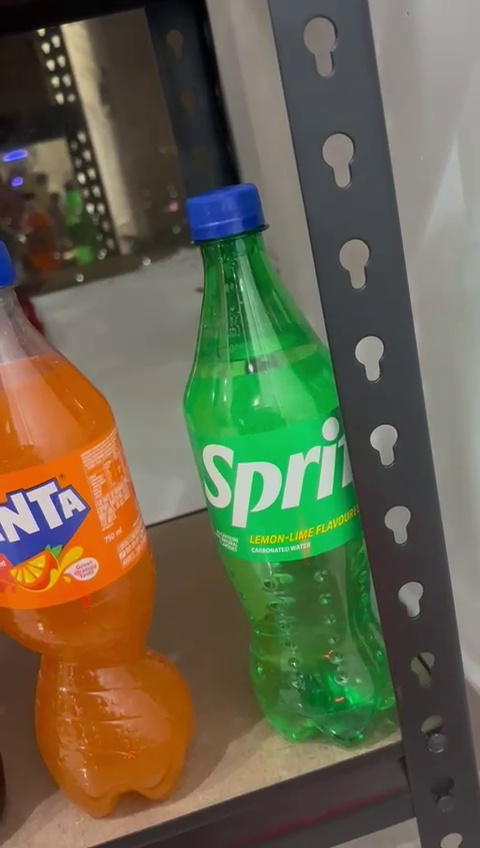Sprit: (167, 174, 398, 745)
